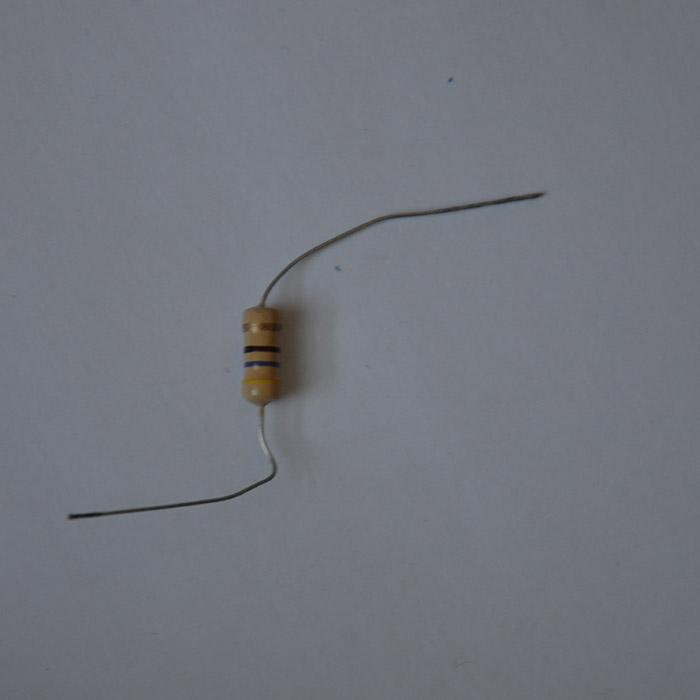resistor: (240, 305, 283, 406)
